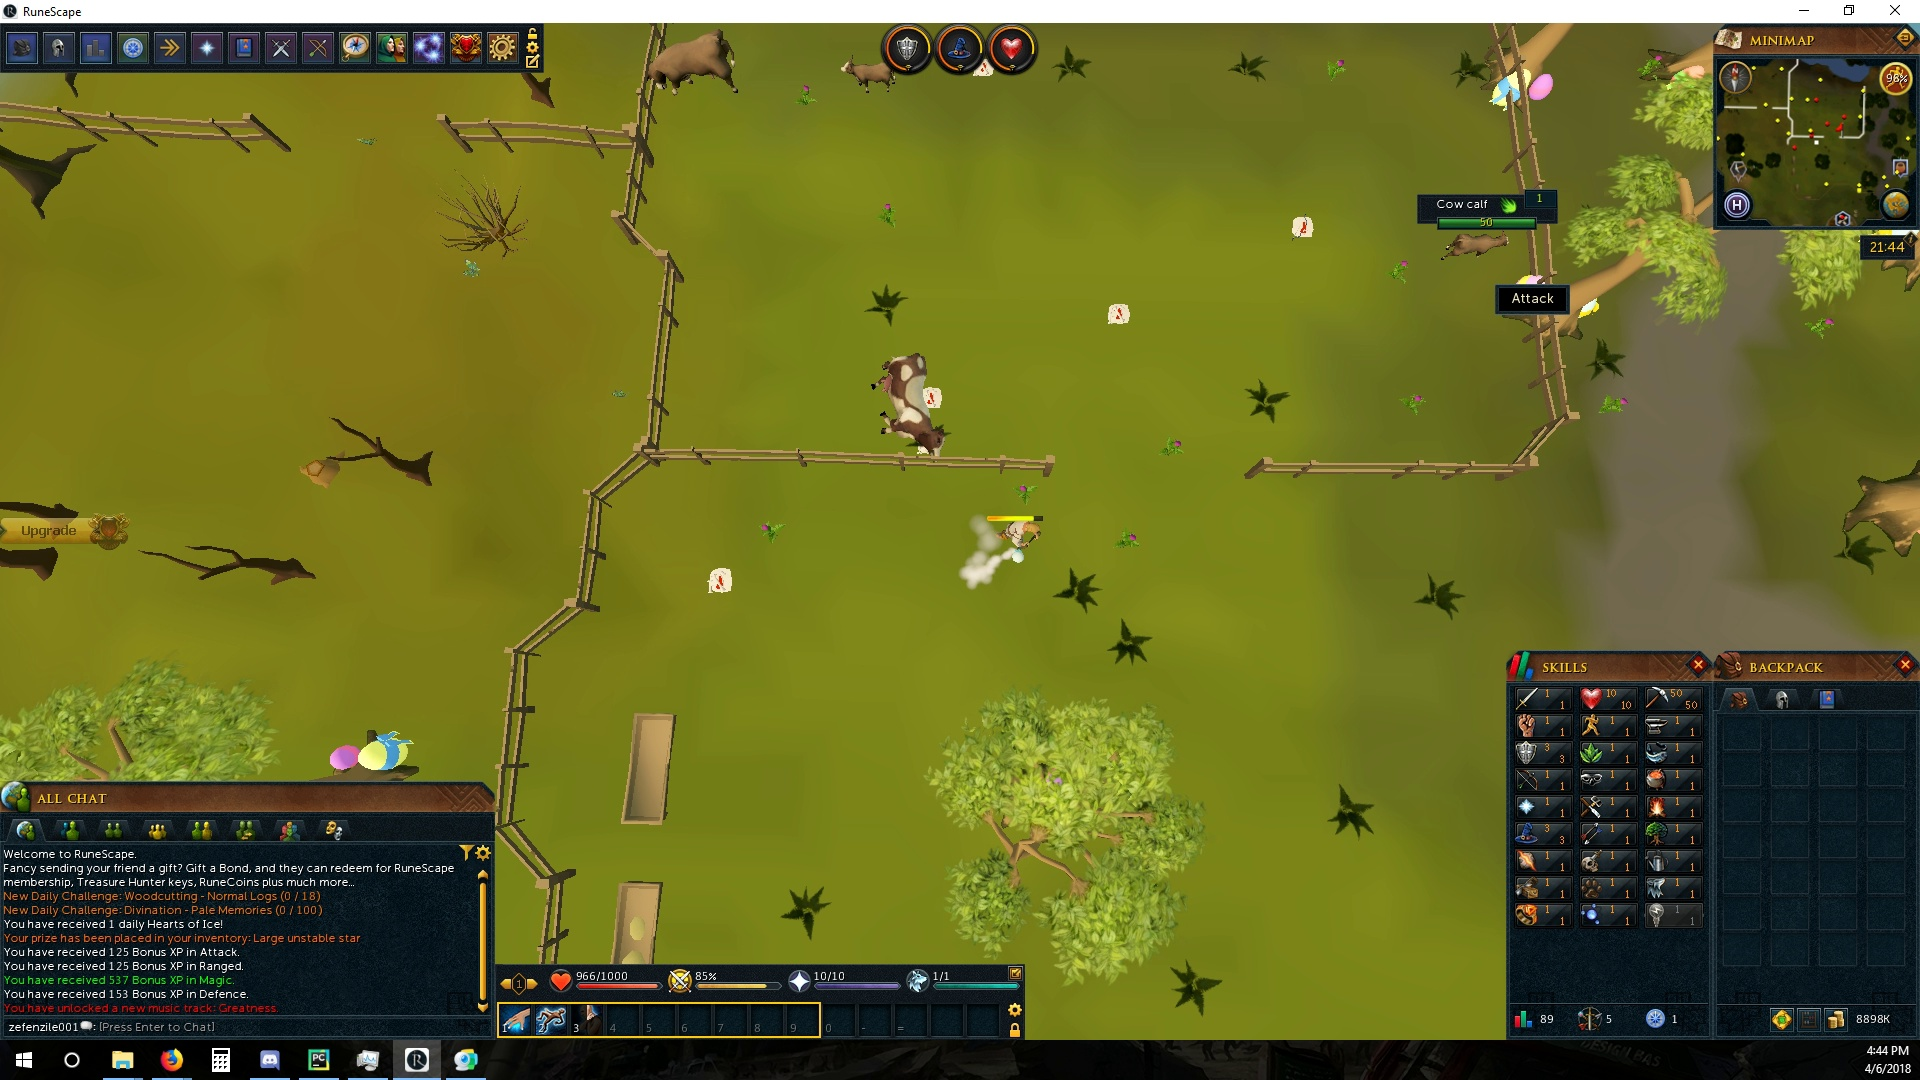calf: (839, 55, 897, 96), (1439, 229, 1513, 261)
cow: (868, 349, 949, 458), (644, 29, 742, 98)
cow_drop: (705, 564, 737, 595), (1105, 298, 1131, 326), (916, 385, 945, 410), (1290, 214, 1316, 233)
